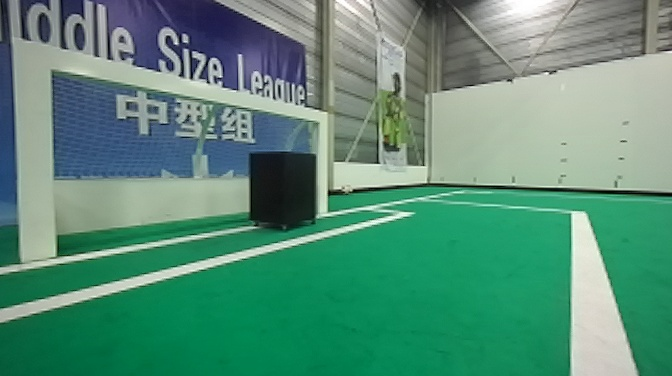ball: (336, 180, 356, 196)
goalpost: (7, 34, 74, 278), (312, 111, 332, 220)
